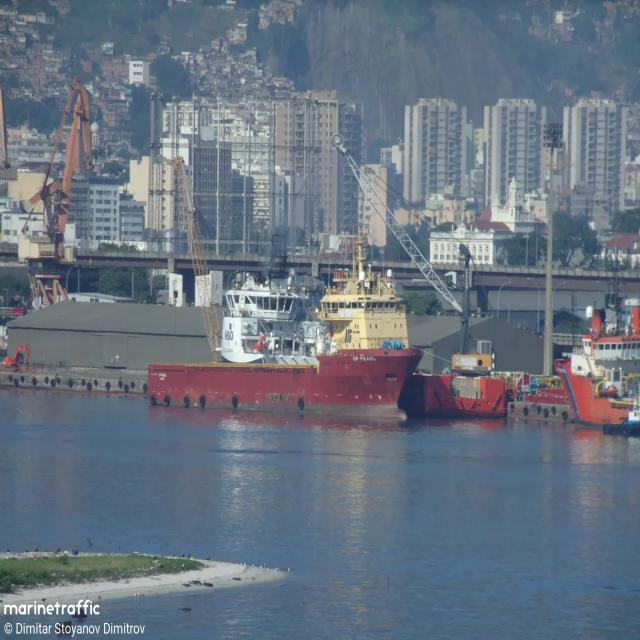Offshore: (148, 246, 422, 416)
